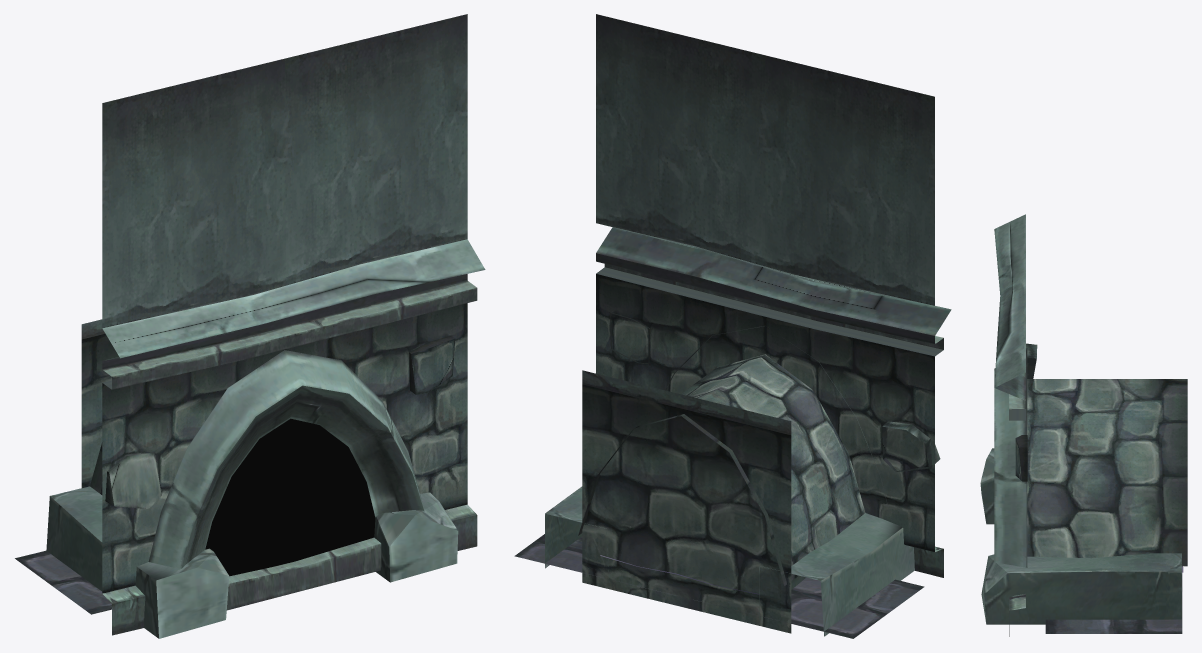
Rendered from crypt_wall_straight_10.fbx.
3 renders of one model, left to right at view 1: azimuth 30°, elevation 25°; view 2: azimuth 150°, elevation 25°; view 3: azimuth 270°, elevation 25°, orthographic. The views are drawn at different scales.
Parts seen in each view (by area): view 1: crypt_wall_straight_10-0; view 2: crypt_wall_straight_10-0; view 3: crypt_wall_straight_10-0.
Part boxes in pixels (x1,y1,x2,y2): crypt_wall_straight_10-0: [15, 14, 485, 638]; crypt_wall_straight_10-0: [514, 14, 951, 638]; crypt_wall_straight_10-0: [980, 214, 1187, 636].
Size of the model in its own units: 4 by 5.55 by 2.21.
